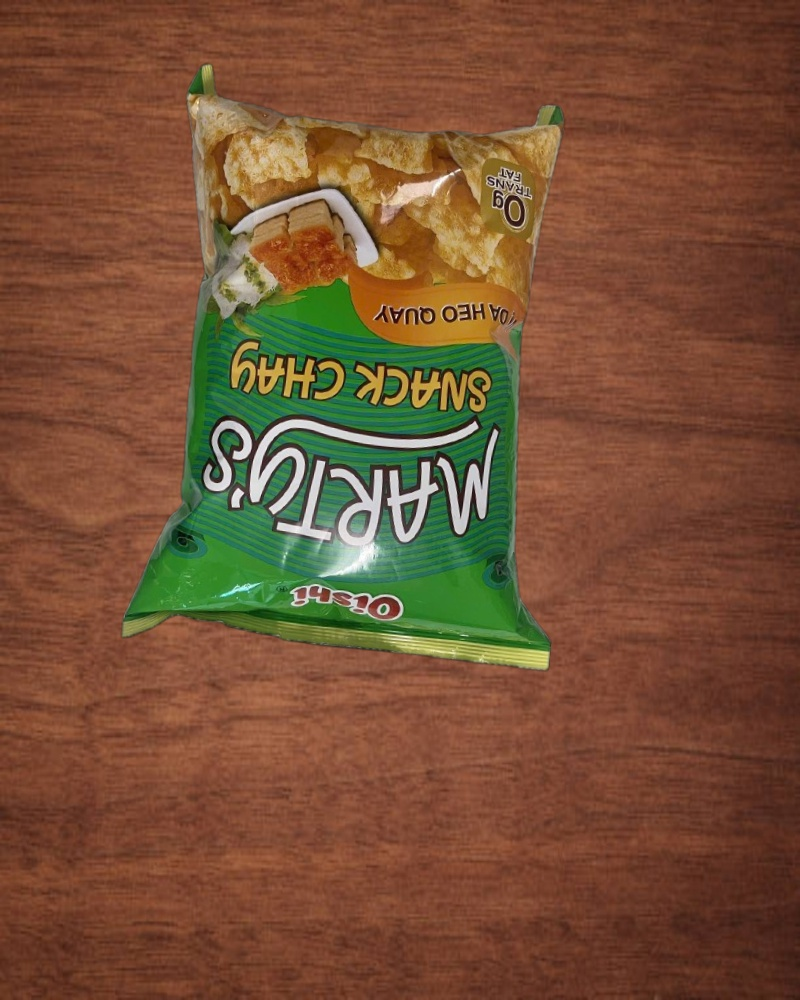Snack chay: (142, 64, 598, 676)
